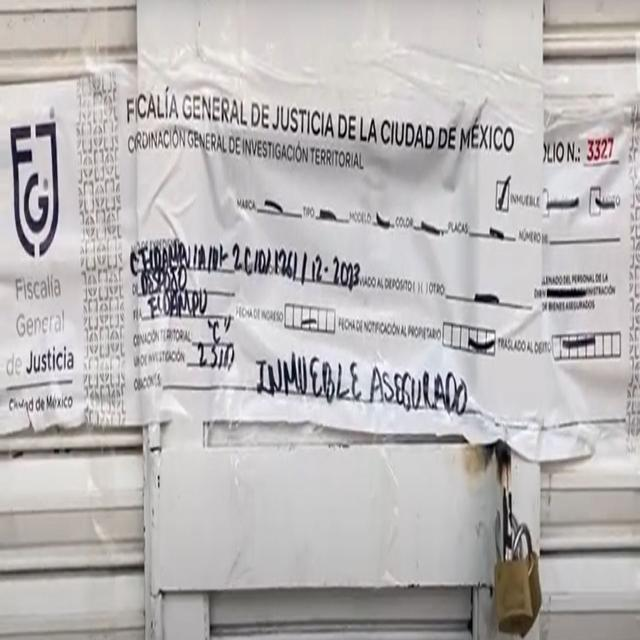stamps: (1, 79, 637, 462)
